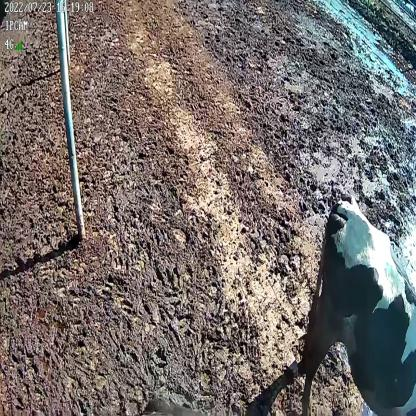cow: (299, 192, 416, 415)
